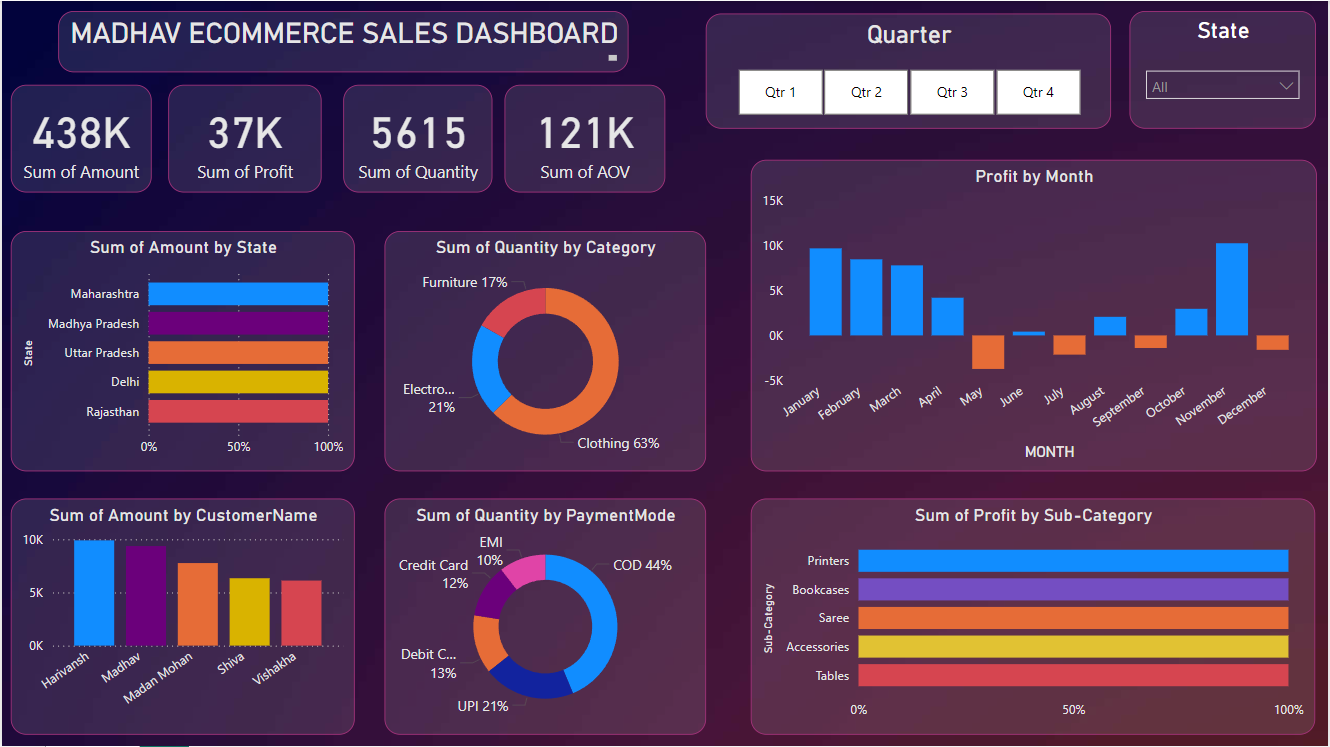

Layout of this report page (visuals, bound fields, positions):
{"tool":"powerbi","page":{"name":"Page 1","canvas":[1280,720],"ordinal":0},"visuals":[{"type":"textbox","title":"MADHAV ECOMMERCE SALES DASHBOARD","box":[54.9,9.6,550.3,59],"z":0},{"type":"columnChart","title":"Profit by Month","fields":{"Category":["Orders.Order Date.Variation.Date Hierarchy.Month"],"Y":["Details.Profit"]},"box":[723.2,153.7,546.1,300.5],"z":1000},{"type":"hundredPercentStackedBarChart","fields":{"Category":["Details.Sub-Category"],"Y":["Details.Profit"]},"box":[723.2,480.3,544.8,227.8],"z":2000},{"type":"donutChart","fields":{"Category":["Details.Category"],"Y":["Details.Quantity"]},"box":[369.1,222.3,310.1,231.9],"z":3000},{"type":"donutChart","fields":{"Category":["Details.PaymentMode"],"Y":["Details.Quantity"]},"box":[369.1,480.3,310.1,227.8],"z":4000},{"type":"card","fields":{"Values":["Details.Amount"]},"box":[8.2,81,135.8,104.3],"z":5000},{"type":"card","fields":{"Values":["Details.AOV"]},"box":[484.4,81,155.1,104.3],"z":6000},{"type":"card","fields":{"Values":["Details.Quantity"]},"box":[329.3,81,144.1,104.3],"z":7000},{"type":"card","fields":{"Values":["Details.Profit"]},"box":[160.5,81,148.2,104.3],"z":8000},{"type":"hundredPercentStackedBarChart","fields":{"Category":["Orders.State"],"Y":["Details.Amount"]},"box":[8.2,222.3,332.1,231.9],"z":9000},{"type":"columnChart","fields":{"Category":["Orders.CustomerName"],"Y":["Details.Amount"]},"box":[8.2,480.3,332.1,227.8],"z":10000},{"type":"slicer","title":"Quarter","fields":{"Values":["Orders.Order Date.Variation.Date Hierarchy.Quarter"]},"box":[679.2,12.3,391.1,111.1],"z":11000},{"type":"slicer","title":"State","fields":{"Values":["Orders.State"]},"box":[1088.2,9.6,179.8,113.9],"z":12000}]}

Visuals, with their boxes in screenshot pixels (x1, y1, x2, y2), scaled from the page's 1280x720 canvas onto the 1330x747 screenshot:
"MADHAV ECOMMERCE SALES DASHBOARD" textbox: left=57, top=10, right=629, bottom=71
"Profit by Month" columnChart: left=751, top=159, right=1319, bottom=471
hundredPercentStackedBarChart - Details.Sub-Category x Details.Profit: left=751, top=498, right=1318, bottom=735
donutChart - Details.Category x Details.Quantity: left=384, top=231, right=706, bottom=471
donutChart - Details.PaymentMode x Details.Quantity: left=384, top=498, right=706, bottom=735
card - Details.Amount: left=9, top=84, right=150, bottom=192
card - Details.AOV: left=503, top=84, right=664, bottom=192
card - Details.Quantity: left=342, top=84, right=492, bottom=192
card - Details.Profit: left=167, top=84, right=321, bottom=192
hundredPercentStackedBarChart - Orders.State x Details.Amount: left=9, top=231, right=354, bottom=471
columnChart - Orders.CustomerName x Details.Amount: left=9, top=498, right=354, bottom=735
"Quarter" slicer: left=706, top=13, right=1112, bottom=128
"State" slicer: left=1131, top=10, right=1318, bottom=128
